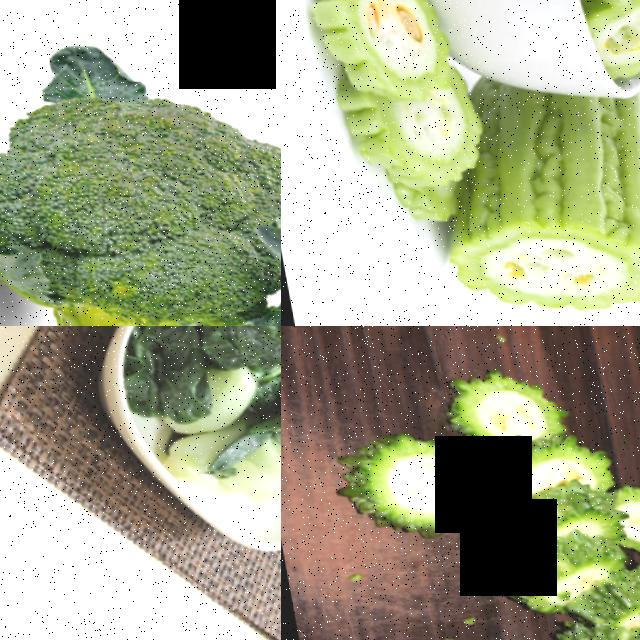bitter gourd: (464, 73, 640, 326), (326, 410, 491, 551), (303, 75, 476, 203), (281, 0, 454, 91), (453, 359, 555, 432), (485, 478, 606, 538), (485, 430, 610, 486), (576, 554, 640, 628), (613, 471, 640, 546)
broccoli: (0, 0, 281, 326)
